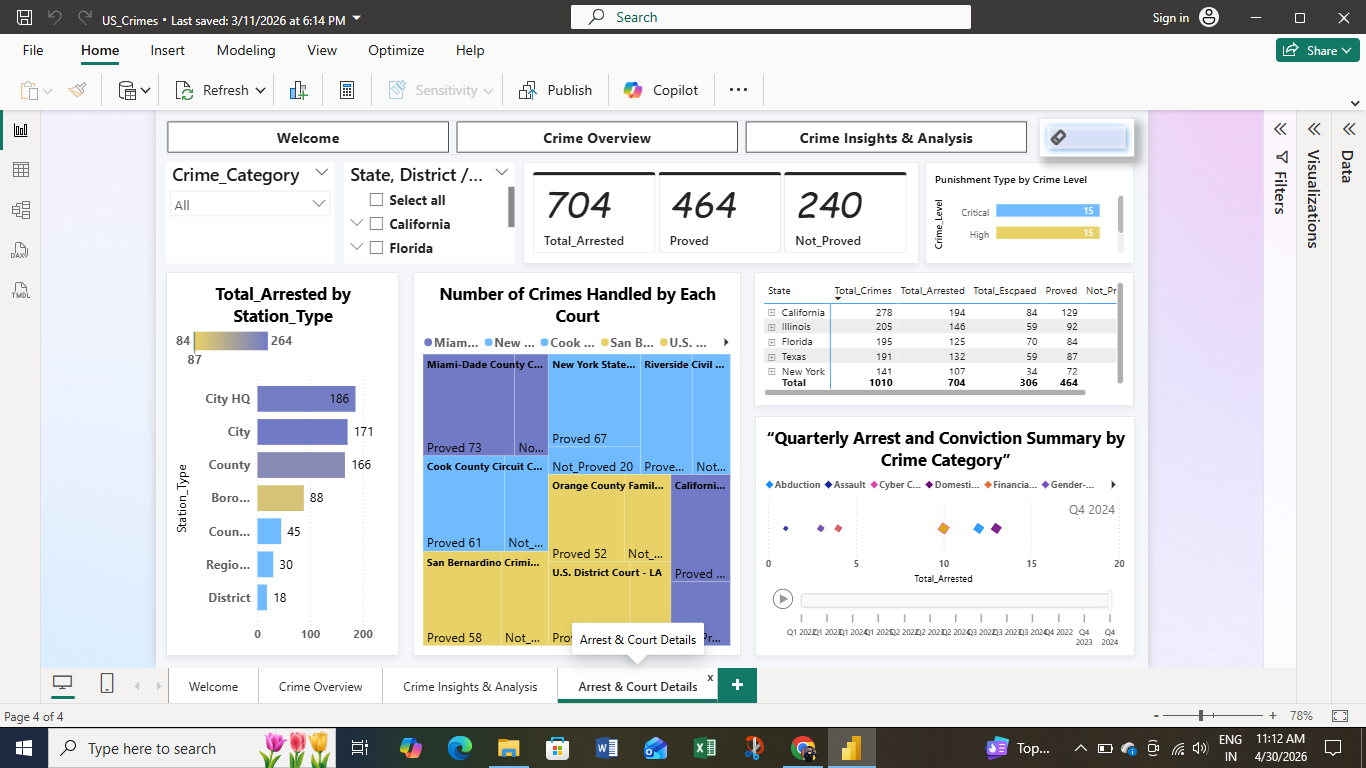

What the dashboard file says about the page in this screenshot:
{"tool":"powerbi","page":{"name":"Arrest &  Court Details","canvas":[1280,720],"ordinal":3},"visuals":[{"type":"treemap","title":"Number of Crimes Handled by Each Court","fields":{"Group":["court.Court_Name"],"Values":["measures (2).Proved","measures (2).Not_Proved"]},"box":[331.7,209.2,422.5,495.5],"z":0},{"type":"clusteredBarChart","title":"Punishment Type by Crime Level","fields":{"Category":["CrimeType.Crime_Level"],"Y":["CountNonNull(Punishment.Punishment_Type)"]},"box":[992.3,67.4,269.8,130.8],"z":1000},{"type":"scatterChart","title":"“Quarterly Arrest and Conviction Summary by Crime Category”","fields":{"Play":["Crimes.Arrest_Quarter_Year"],"X":["measures (2).Total_Arrested"],"Series":["CrimeType.Crime_Category"],"Size":["measures (2).Proved"]},"box":[772.5,394.2,489.9,310.1],"z":2000},{"type":"pivotTable","fields":{"Rows":["Locations.State","PoliceStation.PoliceStation_Name","Punishment.Severity_Level","CrimeType.Crime_SubType"],"Values":["measures (2).Total_Crimes","measures (2).Total_Arrests","measures (2).Total_Escpaed","measures (2).Proved","measures (2).Not_Proved"]},"box":[772.1,209.2,490,173.4],"z":3000},{"type":"cardVisual","fields":{"Data":["measures (2).Total_Arrests","measures (2).Proved_Cases","measures (2).Not_Proved_Arrested"]},"box":[473.5,67.4,510.6,130.8],"z":4000},{"type":"slicer","fields":{"Values":["Locations.State","Locations.District / County"]},"box":[242.2,67.4,220.2,130.8],"z":5000},{"type":"barChart","fields":{"Category":["PoliceStation.Station_Type"],"Y":["measures (2).Total_Arrested"]},"box":[12.4,209.2,300,495.5],"z":6000},{"type":"slicer","fields":{"Values":["CrimeType.Crime_Category"]},"box":[12.4,67.4,217.5,130.8],"z":7000},{"type":"pageNavigator","box":[13,13,1114.5,44.9],"z":8000},{"type":"actionButton","box":[1139.4,10.3,122.6,50.3],"z":9000}]}

Visuals, with their boxes on the page's 1280x720 design canvas (x1, y1, x2, y2). These are canvas units, not pixel positions in the 1366x768 screenshot, which may show the page scaled, cropped or inside an application window:
"Number of Crimes Handled by Each Court" treemap: (332, 209, 754, 705)
"Punishment Type by Crime Level" clusteredBarChart: (992, 67, 1262, 198)
"“Quarterly Arrest and Conviction Summary by Crime Category”" scatterChart: (772, 394, 1262, 704)
pivotTable - Locations.State x PoliceStation.PoliceStation_Name: (772, 209, 1262, 383)
cardVisual - measures (2).Total_Arrests x measures (2).Proved_Cases: (474, 67, 984, 198)
slicer - Locations.State x Locations.District / County: (242, 67, 462, 198)
barChart - PoliceStation.Station_Type x measures (2).Total_Arrested: (12, 209, 312, 705)
slicer - CrimeType.Crime_Category: (12, 67, 230, 198)
pageNavigator: (13, 13, 1128, 58)
actionButton: (1139, 10, 1262, 61)
